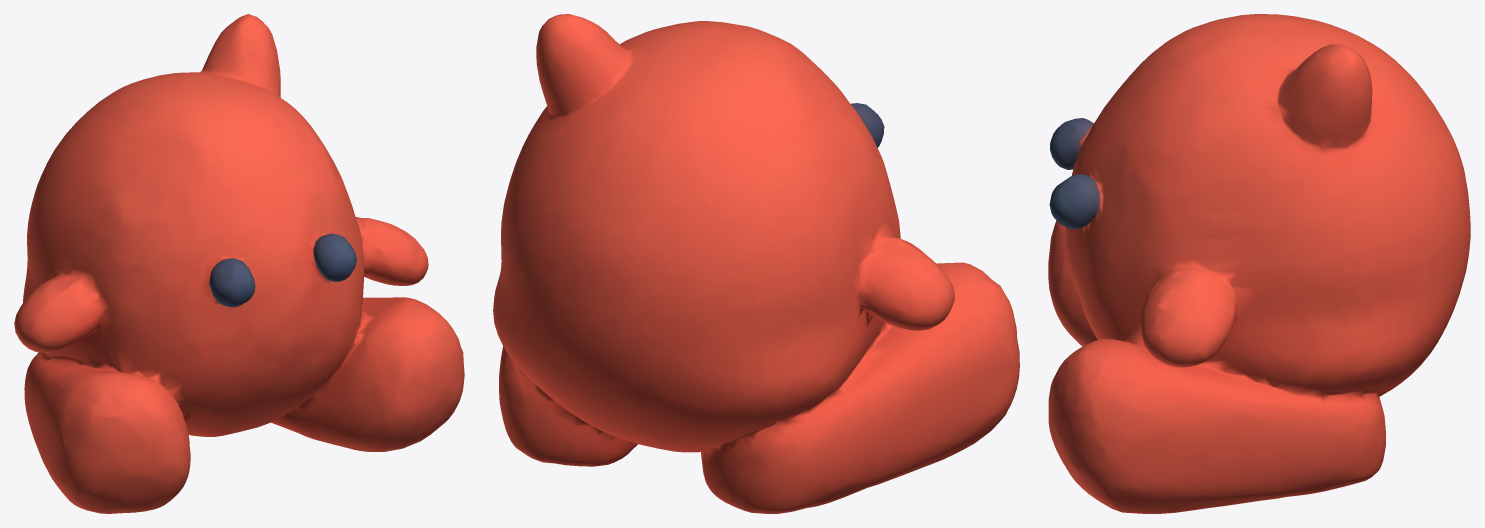
The model's file is dust-runner-base.glb.
The picture shows the model from 3 angles, left to right: view 1: azimuth 30°, elevation 25°; view 2: azimuth 150°, elevation 25°; view 3: azimuth 270°, elevation 25°; orthographic projection. The views are drawn at different scales.
Visible parts, largest first — view 1: tripo_node_33e3e7c4-9179-4c95-a5d7-0a2f60d78fc2; view 2: tripo_node_33e3e7c4-9179-4c95-a5d7-0a2f60d78fc2; view 3: tripo_node_33e3e7c4-9179-4c95-a5d7-0a2f60d78fc2.
Boxes of the visible parts, x1,y1,x2,y2 form: tripo_node_33e3e7c4-9179-4c95-a5d7-0a2f60d78fc2: (14, 14, 464, 513); tripo_node_33e3e7c4-9179-4c95-a5d7-0a2f60d78fc2: (493, 14, 1019, 513); tripo_node_33e3e7c4-9179-4c95-a5d7-0a2f60d78fc2: (1048, 14, 1470, 513).
Bounding box in the file's own units: 1 × 0.8962 × 0.8094.
Materials: 1 (1 with a texture image).
